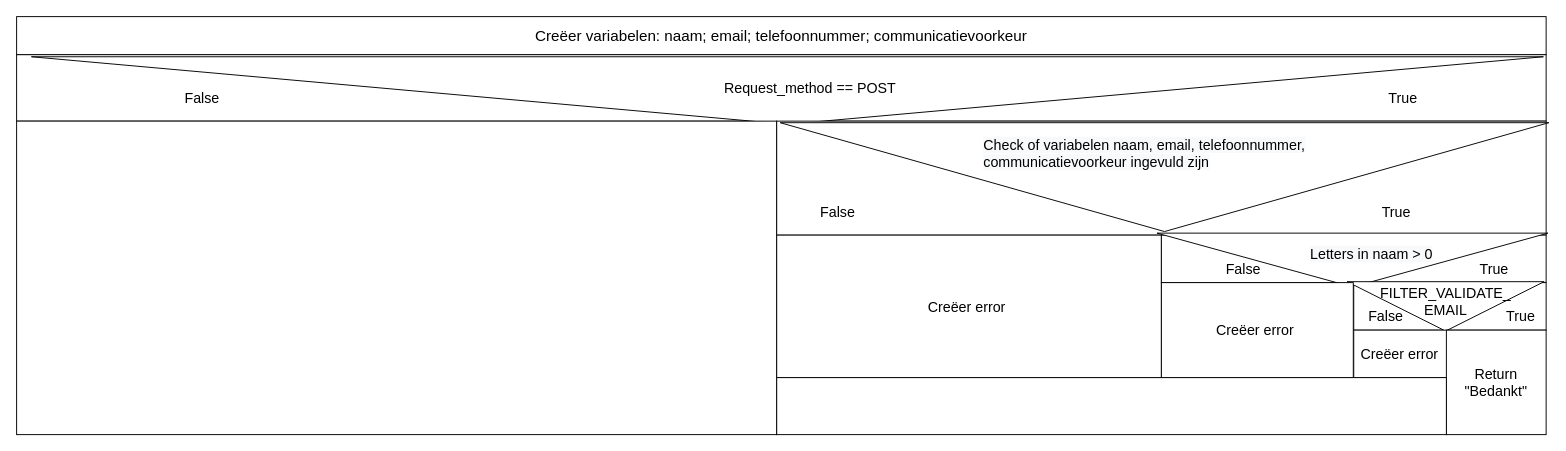
The diagram is 1566 pixels wide and 451 high, and some of its shapes have lost their labels. Here are the shapes that lost their labels. From the top down, the centre of each, then its label:
the point at 396,277: Return formulier
the point at 1111,406: Return formulier met error
